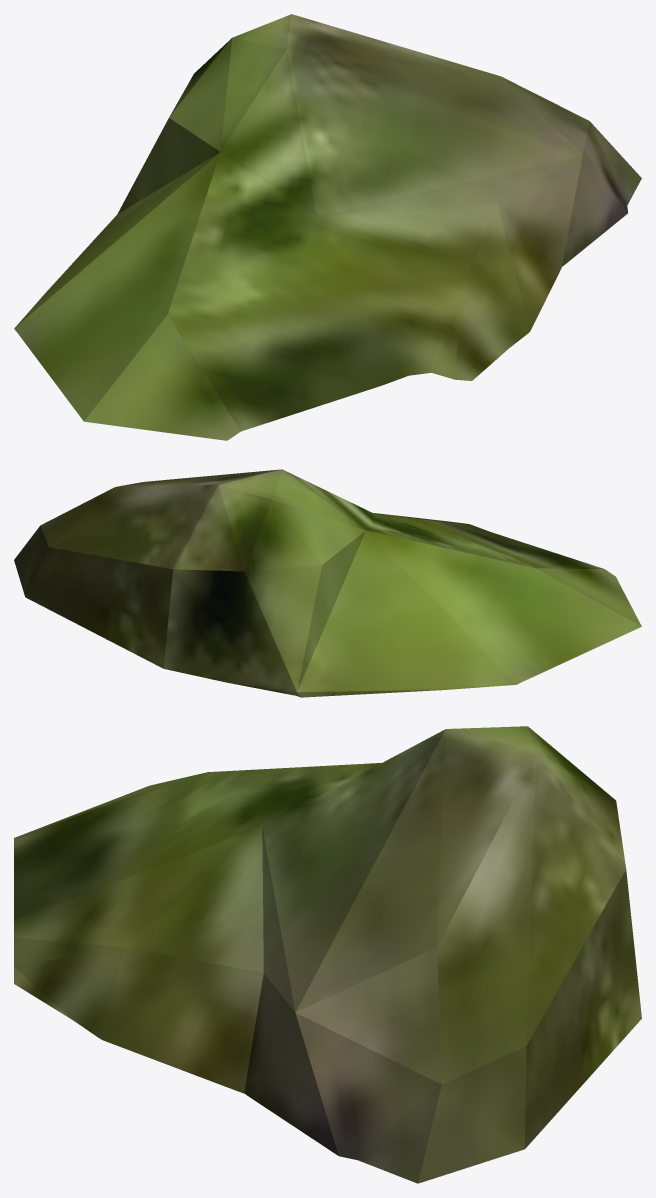
3 renders of one model, top to bottom at view 1: azimuth 30°, elevation 25°; view 2: azimuth 150°, elevation 25°; view 3: azimuth 270°, elevation 25°, orthographic. The views are drawn at different scales.
Size of the model in its own units: 0.2305 by 0.0675 by 0.1537.
1 material, 1 textured.
